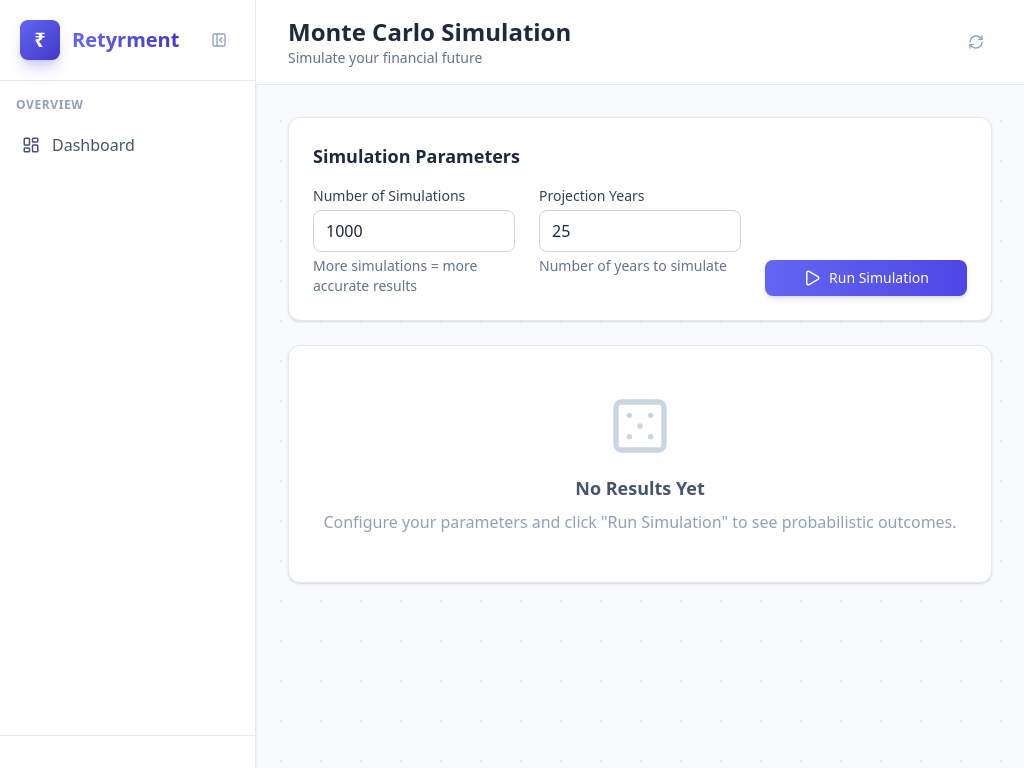
Test case: Simulation › Results Display › shows warning for medium success rate
Click the button "Run Simulation": (866, 278) [765,260,967,296]
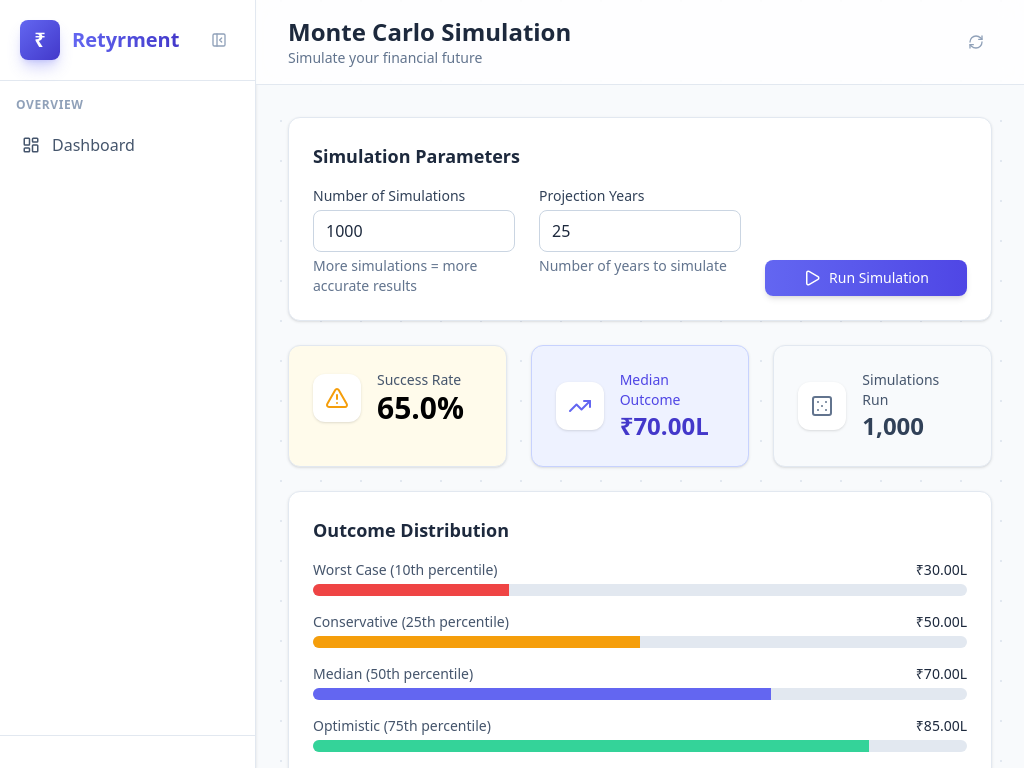
Now the text "65.0%" is shown, box [377,390,464,426]
